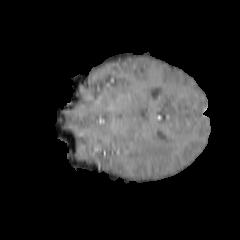glioma: (108, 130, 174, 180)
